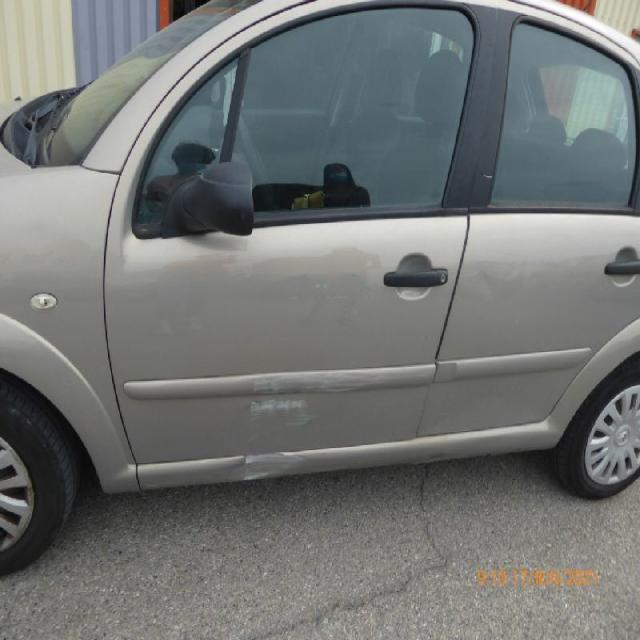porte-avant: (104, 5, 498, 489)
